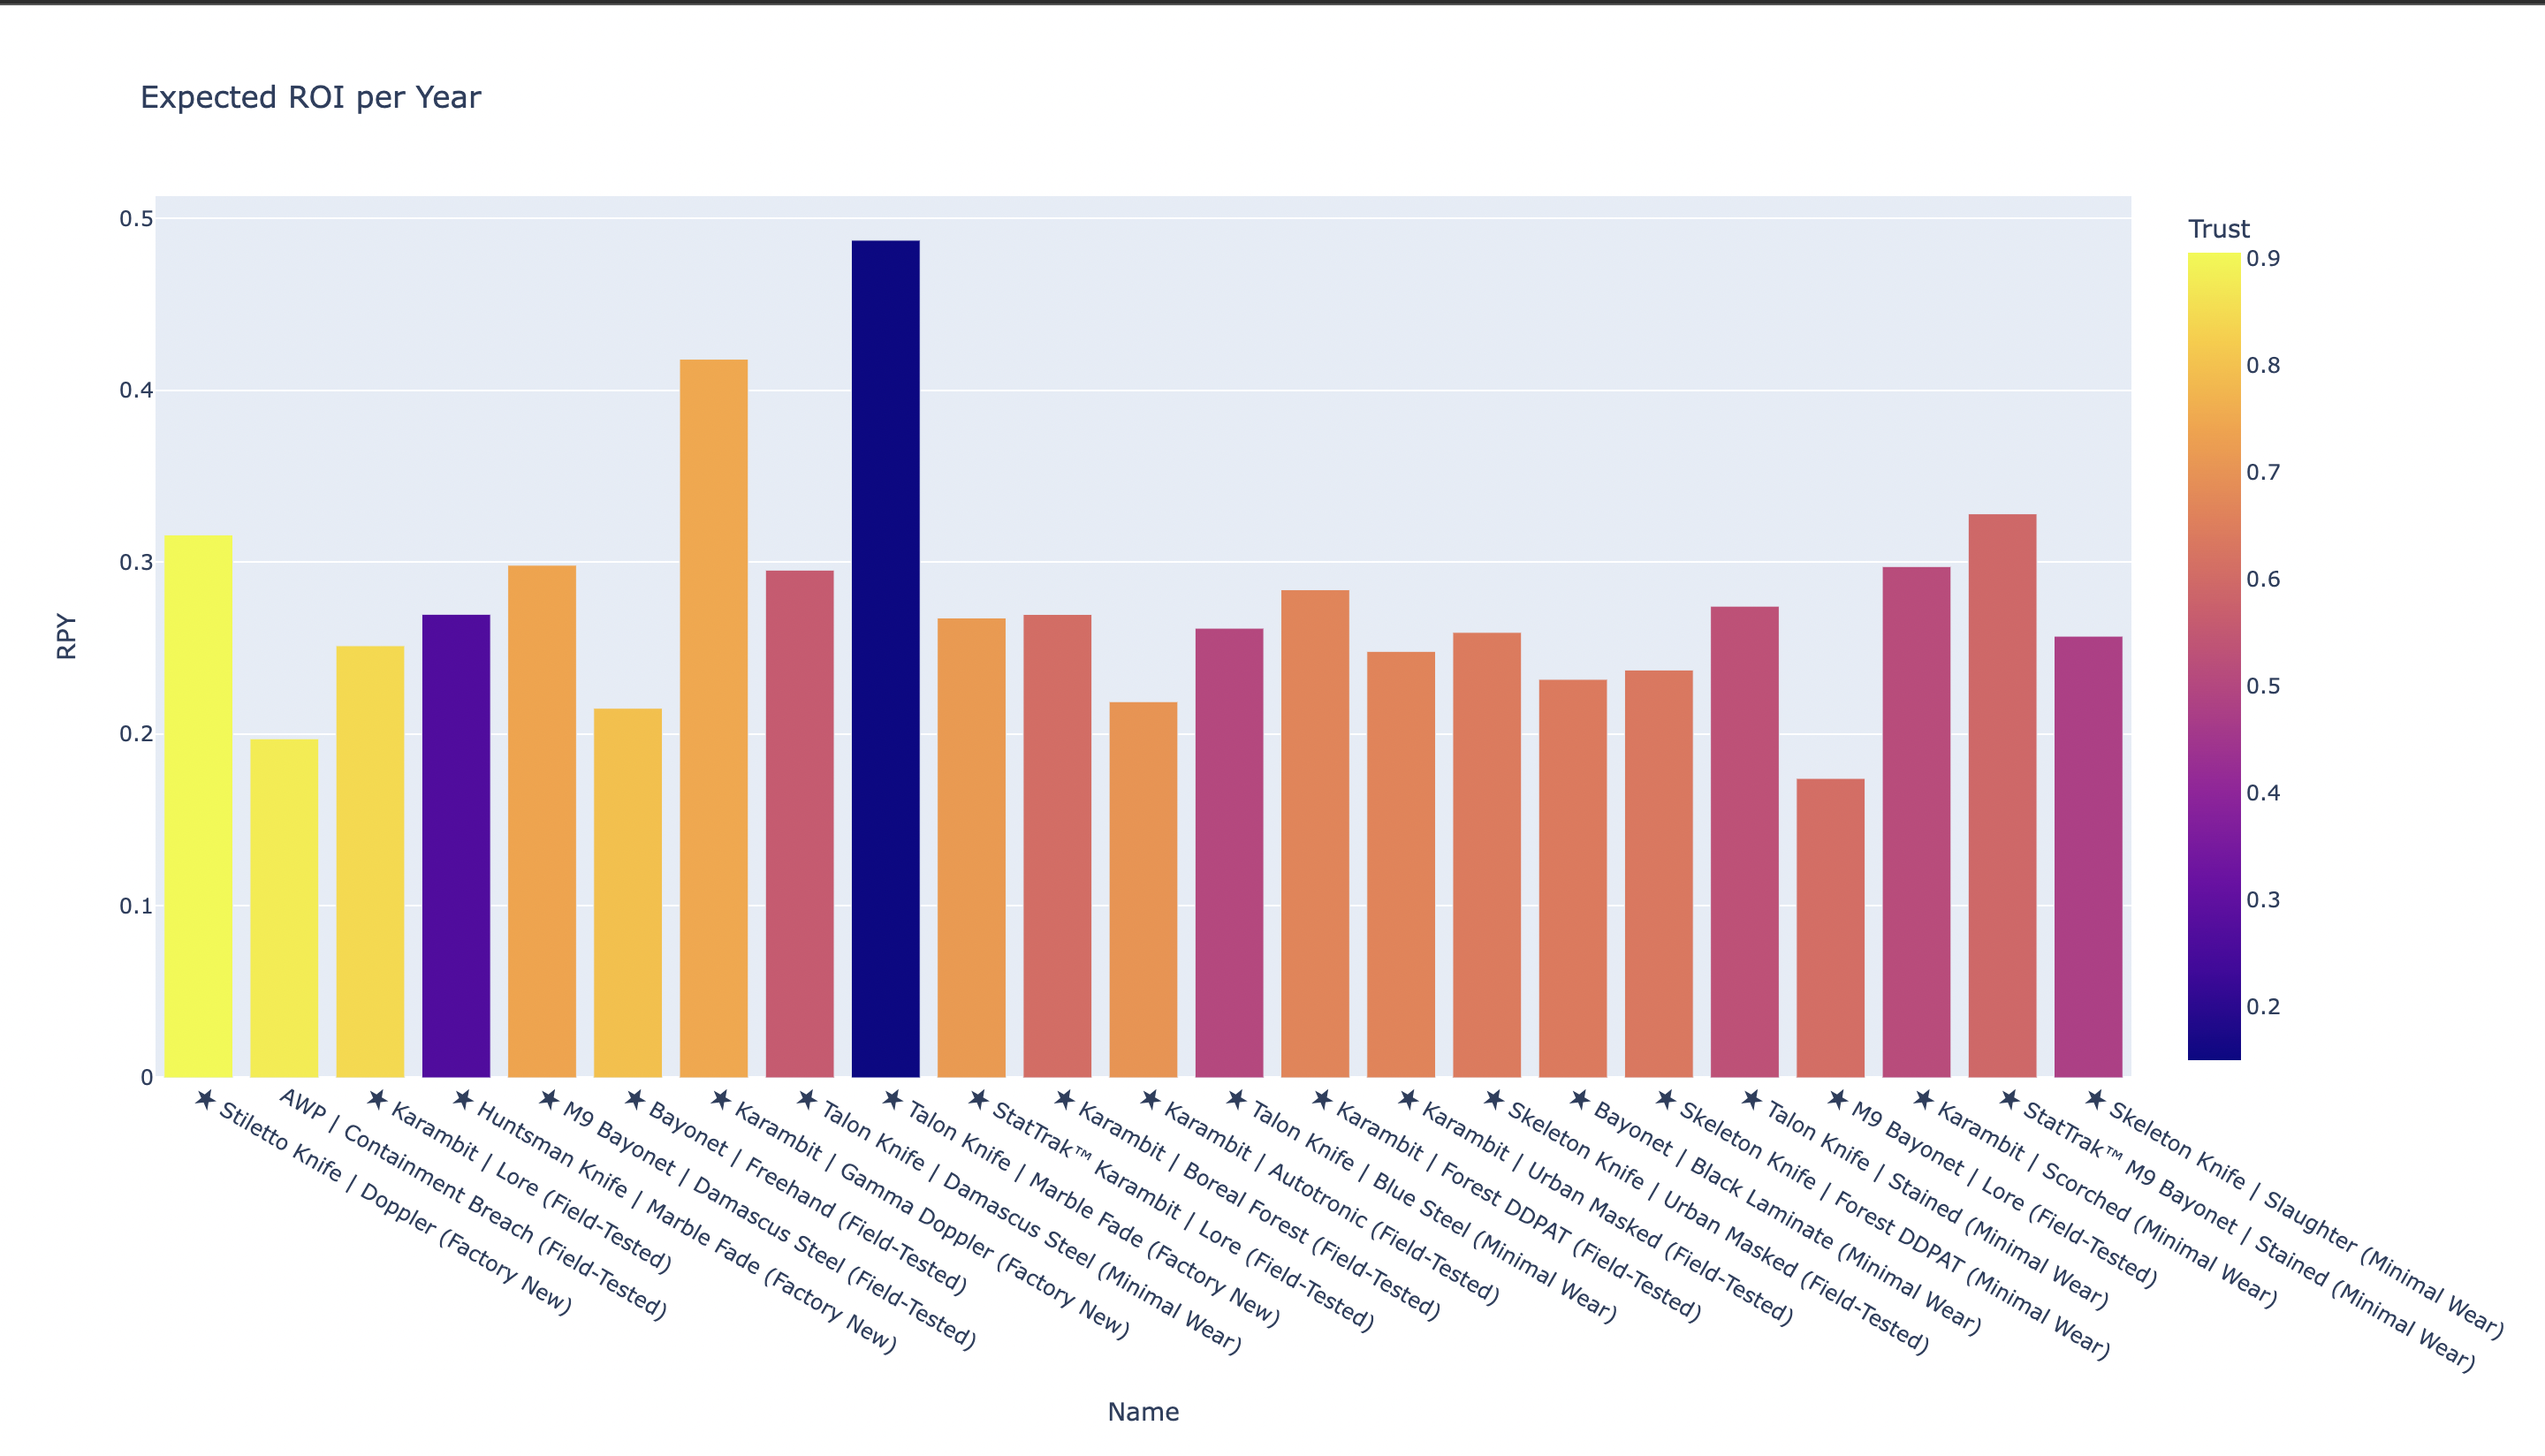

What the dashboard file says about the page in this screenshot:
{"tool":"tableau","page":{"name":"Dashboard 1","canvas":[1000,800],"ordinal":0},"visuals":[{"type":"worksheet","title":"Blatt 1","mark":"Automatic","rows":["Item"],"box":[8,8,984,784]}]}

Visuals, with their boxes on the page's 1000x800 design canvas (x1, y1, x2, y2). These are canvas units, not pixel positions in the 2545x1456 screenshot, which may show the page scaled, cropped or inside an application window:
"Blatt 1" worksheet: bbox=[8, 8, 992, 792]
